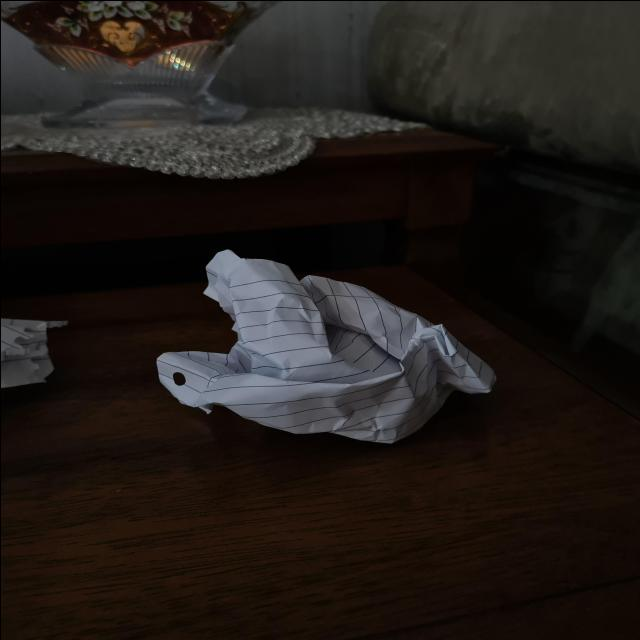kertas: (154, 249, 495, 442)
